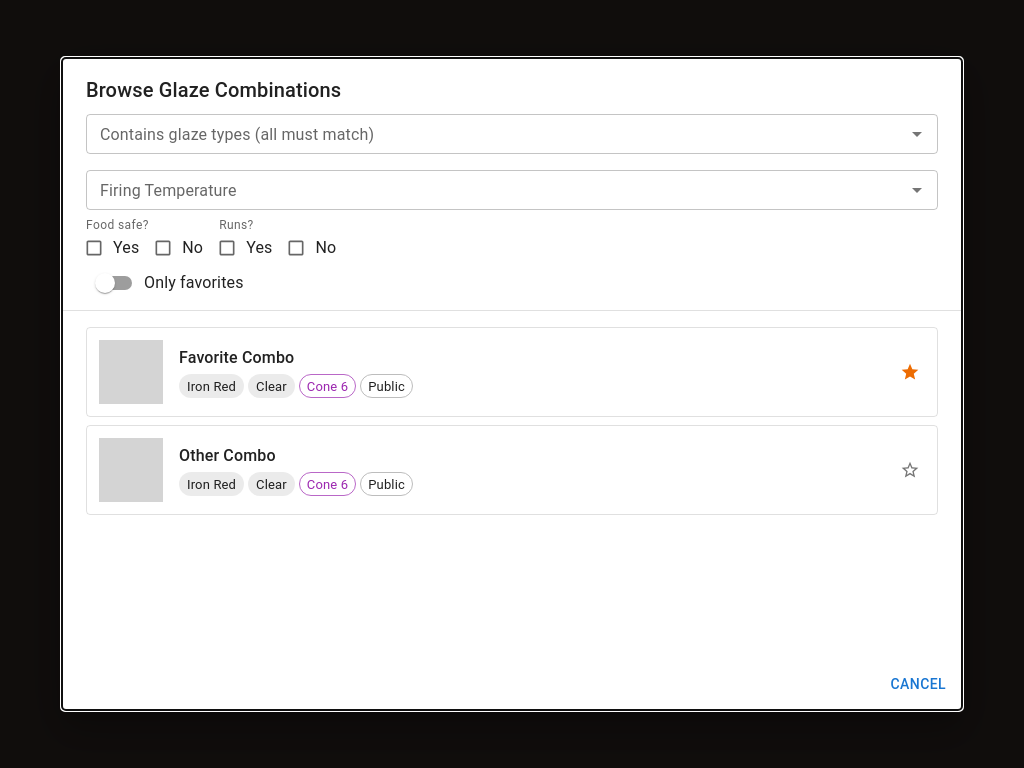
Test: GlobalEntryDialog › shows only favorite entries when Only favorites is toggled
Expected: the text "Favorite Combo" is shown, [179,348,294,367]
Expected: the text "Other Combo" is shown, [179,446,276,465]
Click the switch labelled "Only favorites". click: (169, 283)
box: [95,273,244,293]
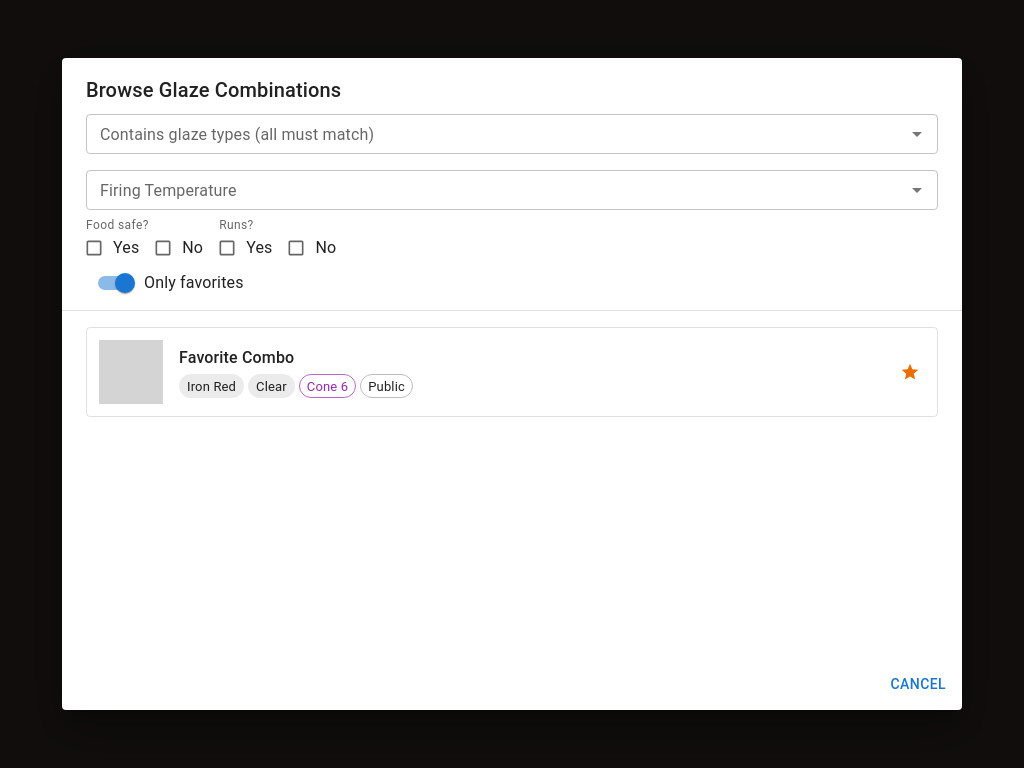
Expected: the text "Favorite Combo" is shown, [179,348,294,367]
Expected: the text "Other Combo" is gone
Click the switch labelled "Only favorites". click: (171, 283)
box: [98,273,244,293]
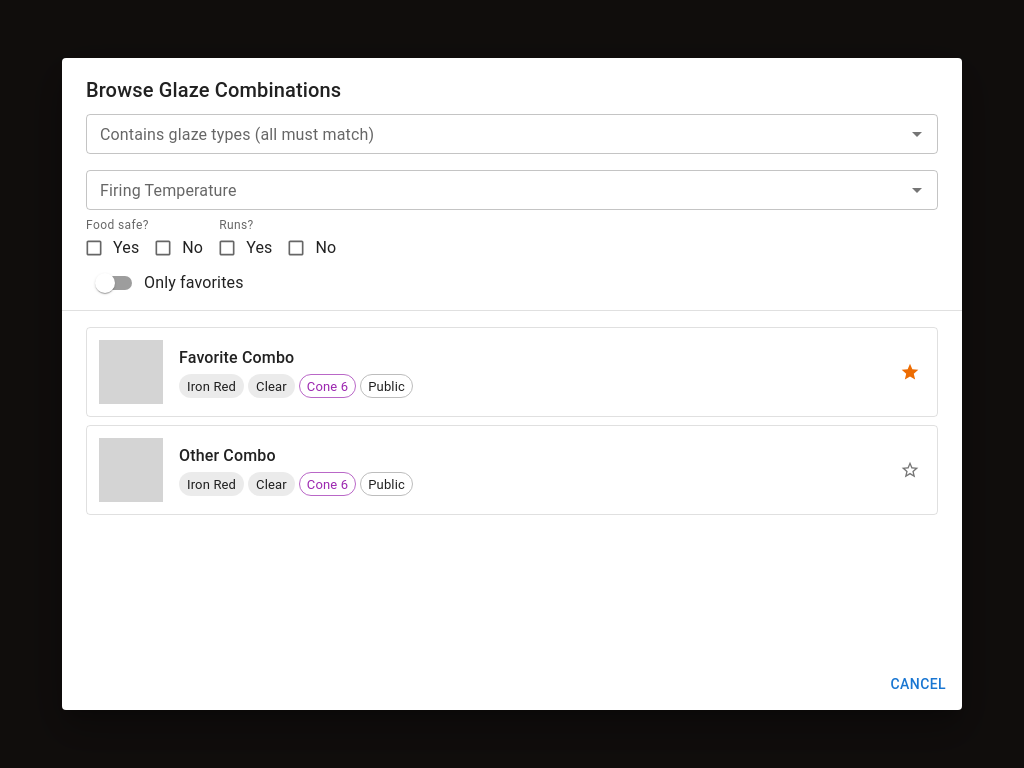
Expected: the text "Favorite Combo" is shown, [179,348,294,367]
Expected: the text "Other Combo" is shown, [179,446,276,465]
